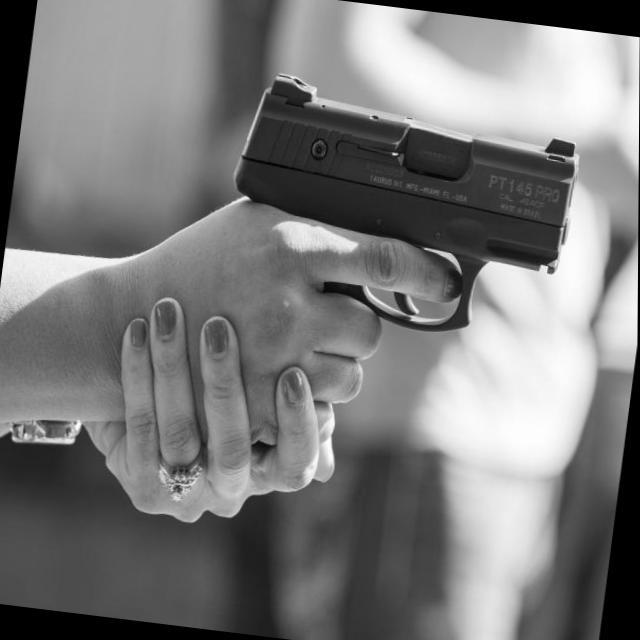weapon: (216, 66, 587, 348)
